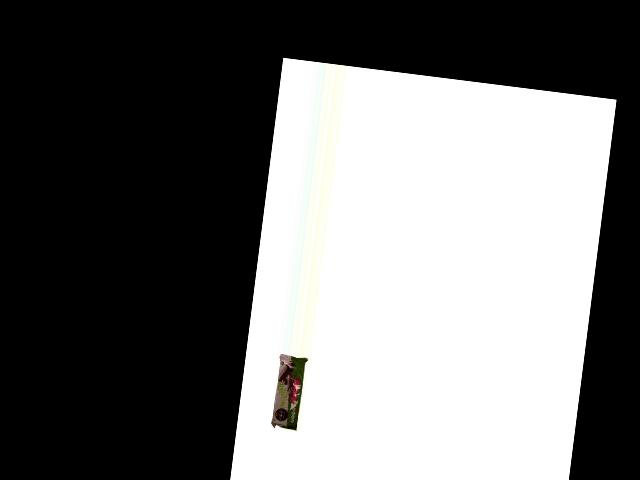chocolate: (267, 353, 307, 433)
